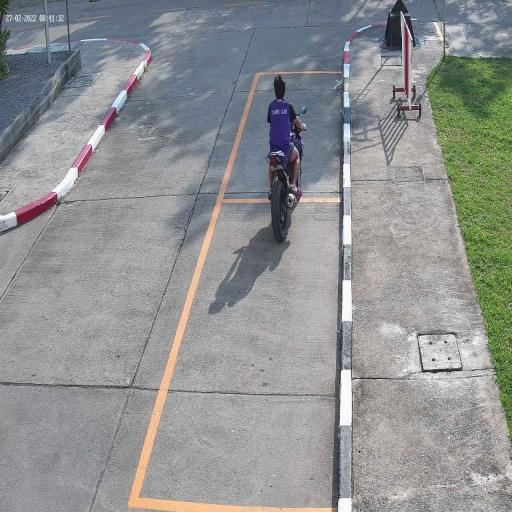motorcycle: (266, 135, 305, 241)
